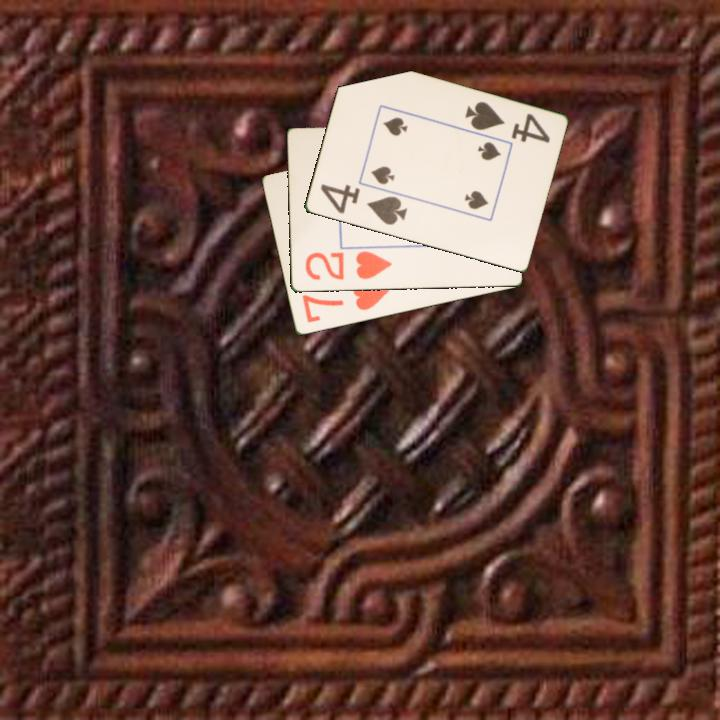2h: (302, 248, 394, 283)
4s: (316, 181, 410, 228), (461, 98, 553, 146)
7h: (298, 279, 392, 326)
